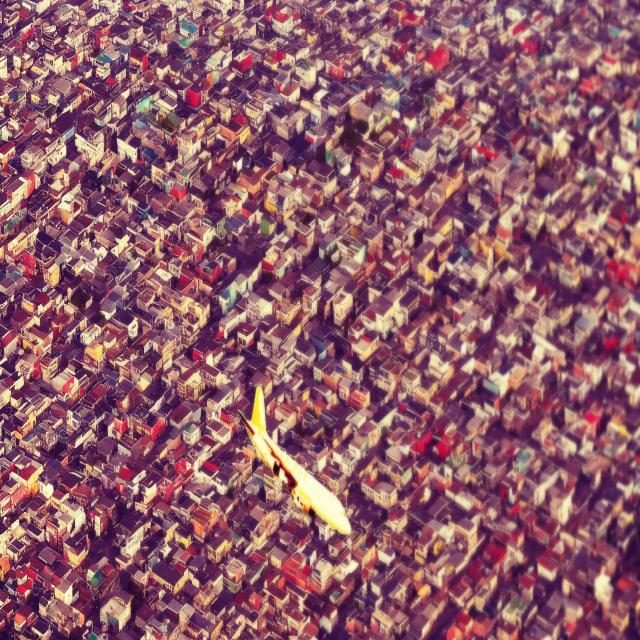airplane: (236, 384, 352, 536)
